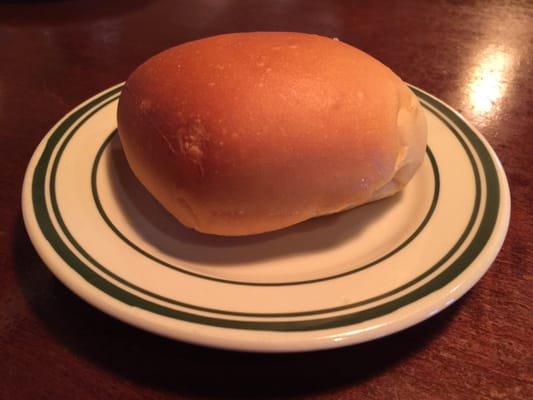taco: (115, 31, 425, 237)
